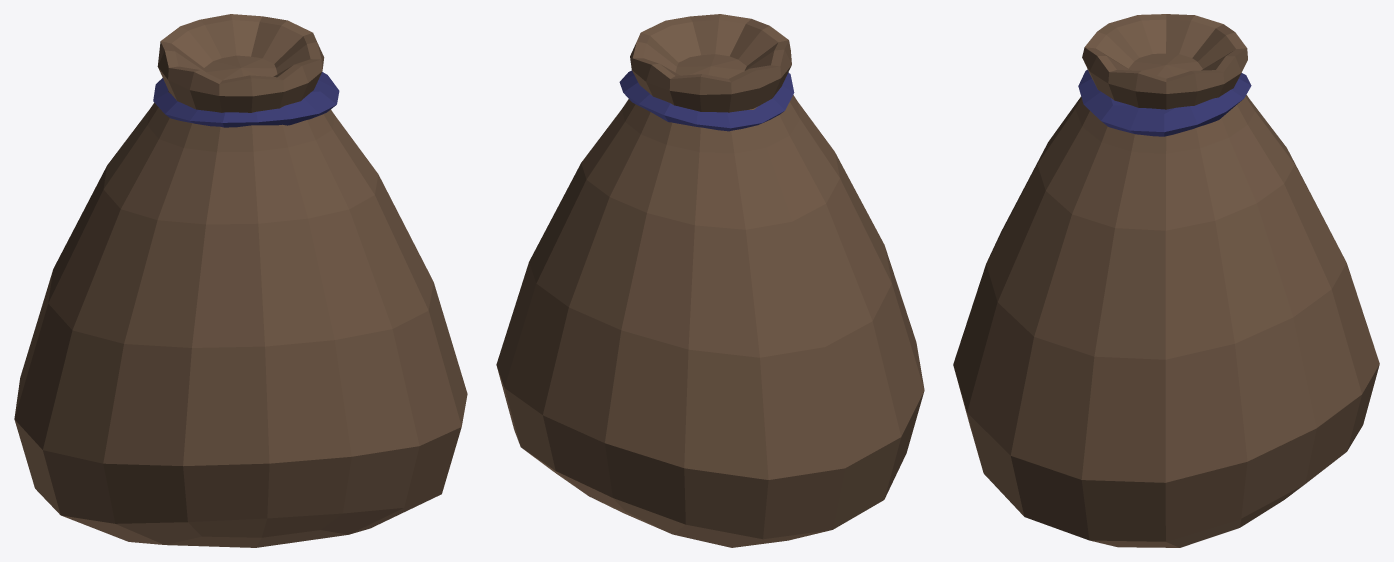
Rendered from Bag_Standing.glb.
The picture shows the model from 3 angles, left to right: view 1: azimuth 30°, elevation 25°; view 2: azimuth 150°, elevation 25°; view 3: azimuth 270°, elevation 25°; orthographic projection. The views are drawn at different scales.
Visible parts, largest first — view 1: Bag_Standing; view 2: Bag_Standing; view 3: Bag_Standing.
Part boxes in pixels (box(x1,y1,x2,y2)): Bag_Standing: box(14, 14, 467, 547); Bag_Standing: box(496, 14, 924, 547); Bag_Standing: box(953, 14, 1379, 547).
Size of the model in its own units: 0.2178 by 0.2527 by 0.2099.
